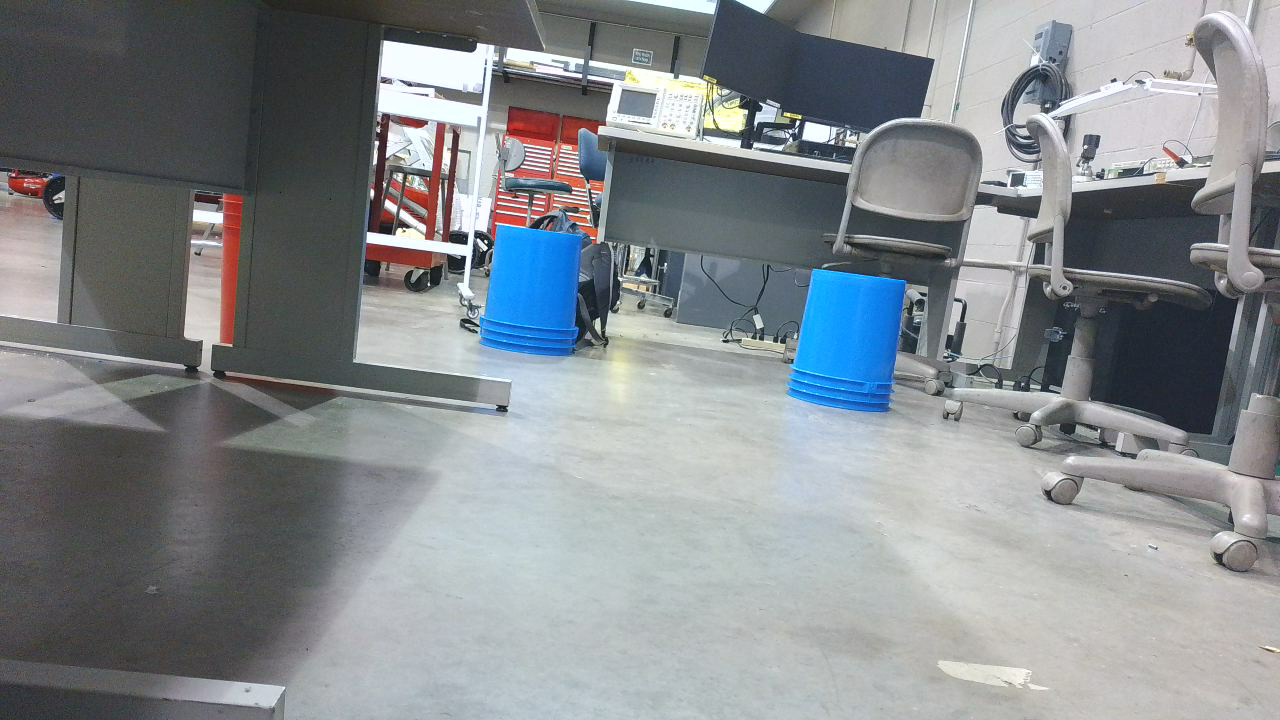blue_bucket: (790, 269, 914, 420), (482, 229, 588, 365)
